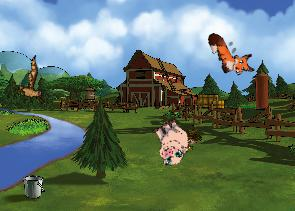eagle: (4, 55, 58, 113)
fox: (204, 22, 258, 84)
pig: (144, 114, 198, 169)
